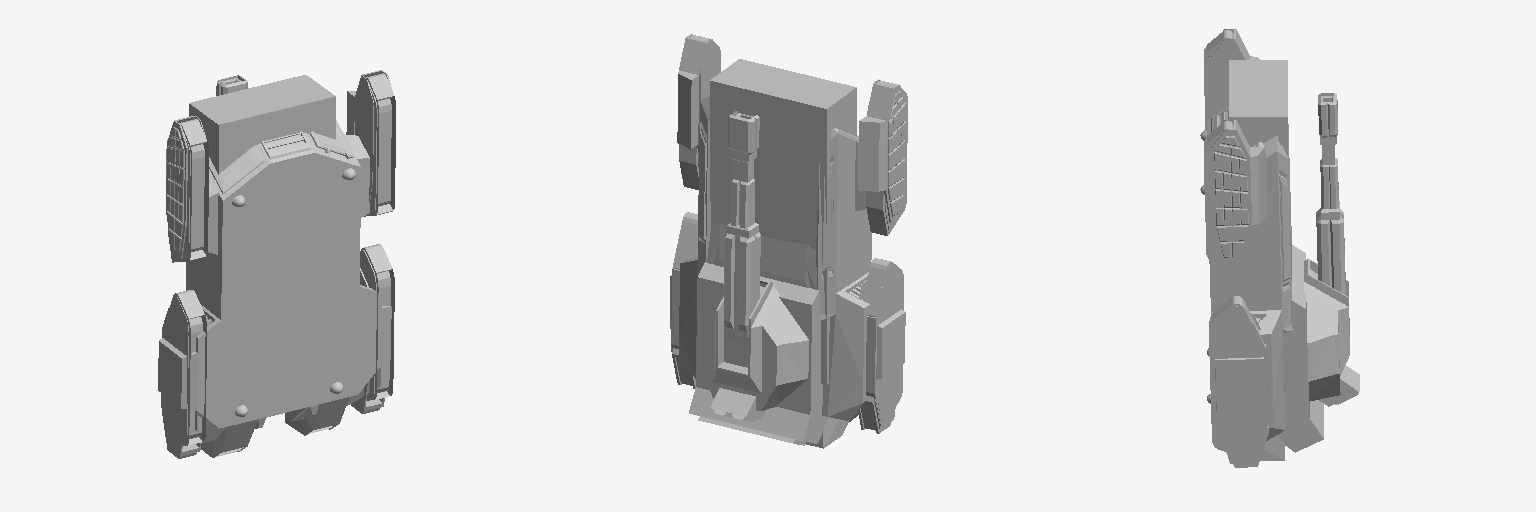
The model's file is tank_4.obj.
3 renders of one model, left to right at view 1: azimuth 30°, elevation 25°; view 2: azimuth 150°, elevation 25°; view 3: azimuth 270°, elevation 25°, orthographic.
Visible parts, largest first — view 1: Cube_Cube.002, Cube_Cube.001, Orugas_2_Cubo.004, Orugas_Cubo, Cubre_Orugas_2_Cube.001, Cubre_Orugas_Cube; view 2: Cube_Cube.002, Cube_Cube.001, Torreta_Cubo.002, Cubre_Orugas_2_Cube.001, Centro_Cubo.001, Orugas_Cubo, Cubre_Orugas_Cube, Cañon.001_Cubo.009, Orugas_2_Cubo.004, Cañon_Cubo.003, Cañon.003_Cubo.011, Cañon.002_Cubo.010; view 3: Cube_Cube.002, Cubre_Orugas_2_Cube.001, Torreta_Cubo.002, Orugas_Cubo, Centro_Cubo.001, Cube_Cube.001, Orugas_2_Cubo.004, Cañon.001_Cubo.009, Cañon.002_Cubo.010, Cañon.003_Cubo.011, Cañon_Cubo.003, Cubre_Orugas_Cube.
Part boxes in pixels (bbox=[...]): Cube_Cube.002: bbox=[158, 120, 391, 457]; Cube_Cube.001: bbox=[189, 75, 335, 174]; Orugas_2_Cubo.004: bbox=[168, 73, 395, 262]; Orugas_Cubo: bbox=[163, 244, 394, 445]; Cubre_Orugas_2_Cube.001: bbox=[166, 70, 392, 258]; Cubre_Orugas_Cube: bbox=[161, 268, 384, 458]; Cube_Cube.002: bbox=[670, 97, 905, 448]; Cube_Cube.001: bbox=[710, 59, 856, 384]; Torreta_Cubo.002: bbox=[699, 279, 808, 421]; Cubre_Orugas_2_Cube.001: bbox=[677, 34, 905, 222]; Centro_Cubo.001: bbox=[689, 262, 827, 445]; Orugas_Cubo: bbox=[671, 212, 903, 428]; Cubre_Orugas_Cube: bbox=[671, 238, 895, 433]; Cañon.001_Cubo.009: bbox=[724, 232, 760, 331]; Orugas_2_Cubo.004: bbox=[679, 35, 907, 235]; Cañon_Cubo.003: bbox=[725, 113, 758, 344]; Cañon.003_Cubo.011: bbox=[728, 111, 759, 154]; Cañon.002_Cubo.010: bbox=[731, 179, 754, 228]; Cube_Cube.002: bbox=[1207, 107, 1292, 460]; Cubre_Orugas_2_Cube.001: bbox=[1211, 28, 1266, 262]; Torreta_Cubo.002: bbox=[1304, 258, 1359, 406]; Orugas_Cubo: bbox=[1209, 260, 1266, 463]; Centro_Cubo.001: bbox=[1276, 245, 1323, 452]; Cube_Cube.001: bbox=[1229, 60, 1287, 155]; Orugas_2_Cubo.004: bbox=[1204, 30, 1252, 273]; Cañon.001_Cubo.009: bbox=[1316, 208, 1345, 294]; Cañon.002_Cubo.010: bbox=[1320, 158, 1338, 208]; Cañon.003_Cubo.011: bbox=[1318, 93, 1337, 137]; Cañon_Cubo.003: bbox=[1320, 96, 1339, 277]; Cubre_Orugas_Cube: bbox=[1227, 313, 1268, 467].
Bounding box in the file's own units: 2.78 × 4.43 × 1.81.